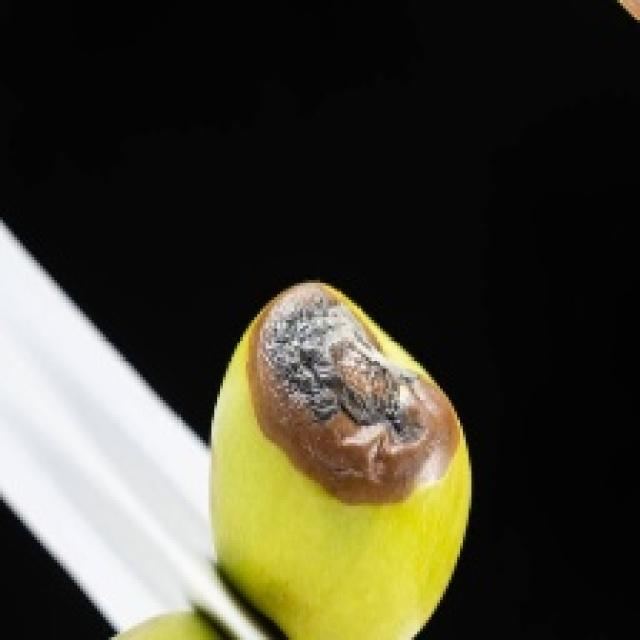rotten_apple: (212, 279, 470, 640)
